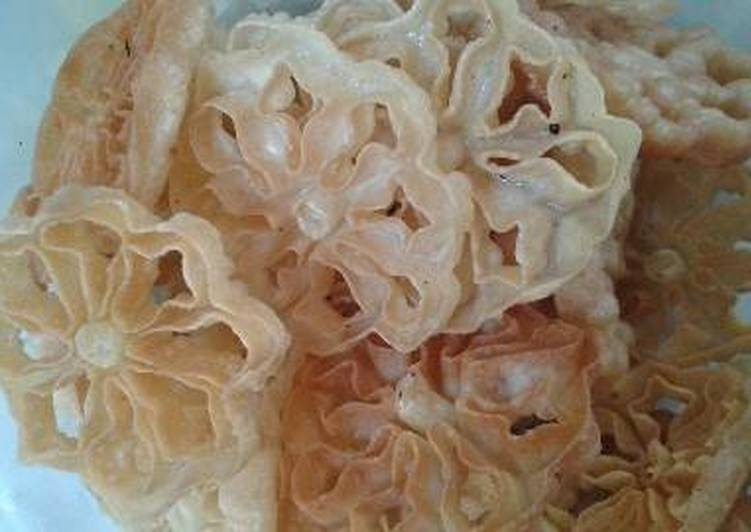kembang_goyang: (0, 190, 267, 513)
